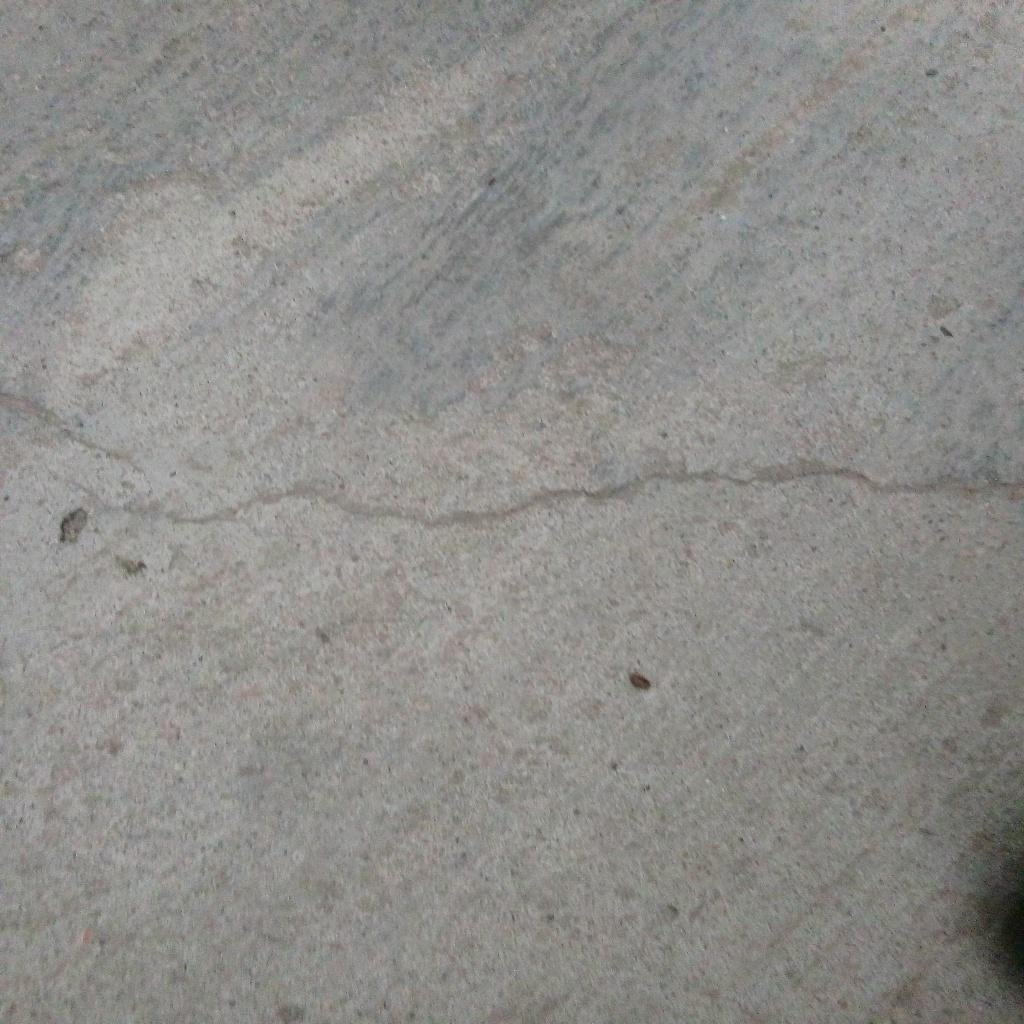Crack: (97, 457, 1024, 531), (1, 395, 146, 478)
Spalling: (58, 506, 89, 543)
